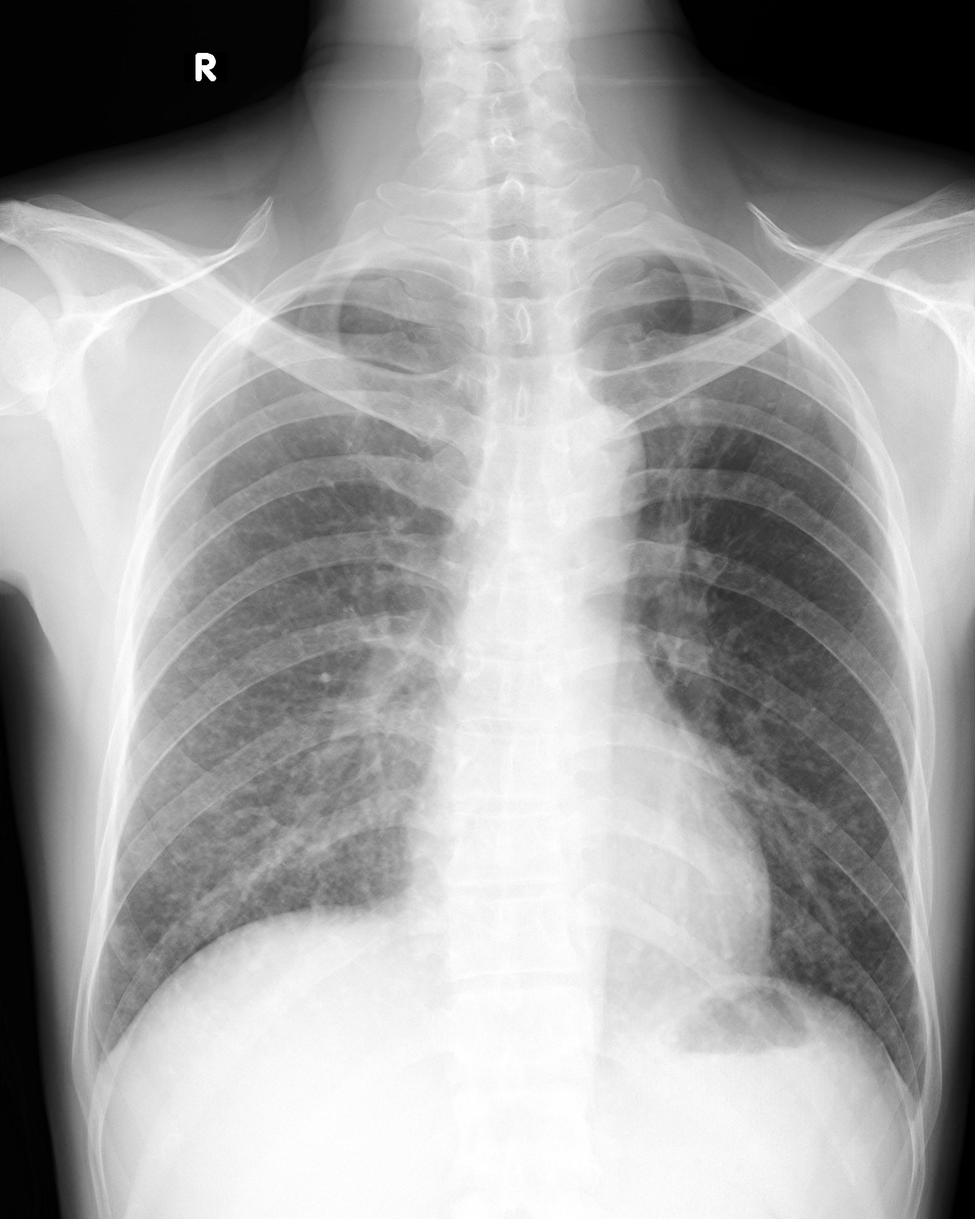Aortic enlargement: (530, 401, 649, 528)
Pleural thickening: (587, 245, 739, 282)
